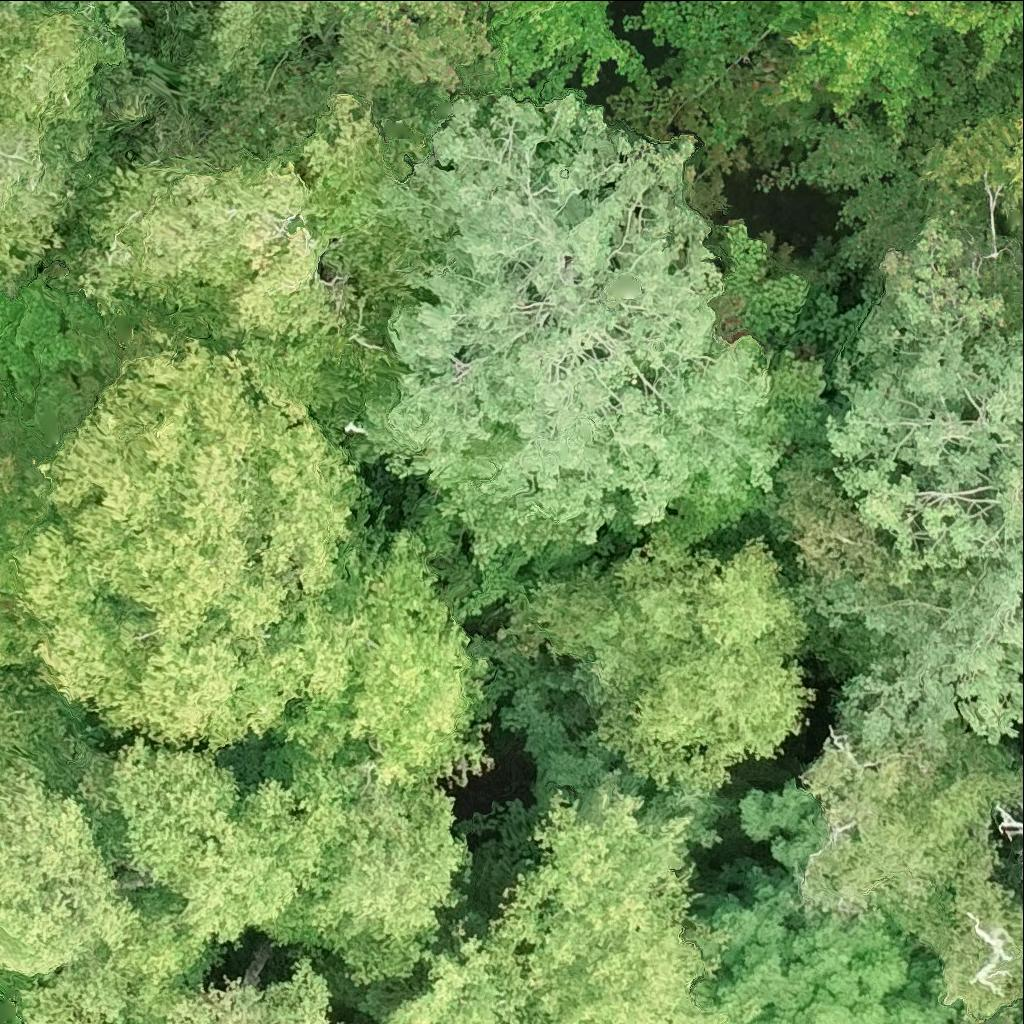crown: (370, 91, 785, 564), (50, 92, 460, 458), (21, 342, 366, 751), (826, 218, 1023, 766), (109, 740, 462, 985), (383, 795, 731, 1023), (535, 534, 815, 792), (801, 719, 1023, 1021), (697, 779, 966, 1023), (266, 532, 488, 786), (178, 0, 510, 163), (0, 2, 128, 282), (0, 770, 141, 977), (0, 383, 101, 663), (0, 278, 128, 447), (165, 960, 328, 1023), (503, 0, 623, 79), (975, 0, 1023, 41), (1004, 116, 1023, 208), (0, 0, 33, 11), (1022, 43, 1023, 55)
